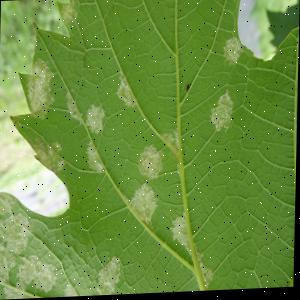Folha: (0, 0, 300, 300)
Fungo: (168, 211, 215, 291), (24, 57, 55, 121), (16, 253, 58, 295), (128, 183, 158, 226), (209, 91, 234, 135), (169, 212, 193, 257), (96, 257, 122, 296), (137, 144, 163, 181), (115, 74, 136, 109), (85, 103, 105, 136), (84, 140, 104, 173), (64, 90, 82, 124), (222, 37, 241, 68), (185, 85, 189, 95)
